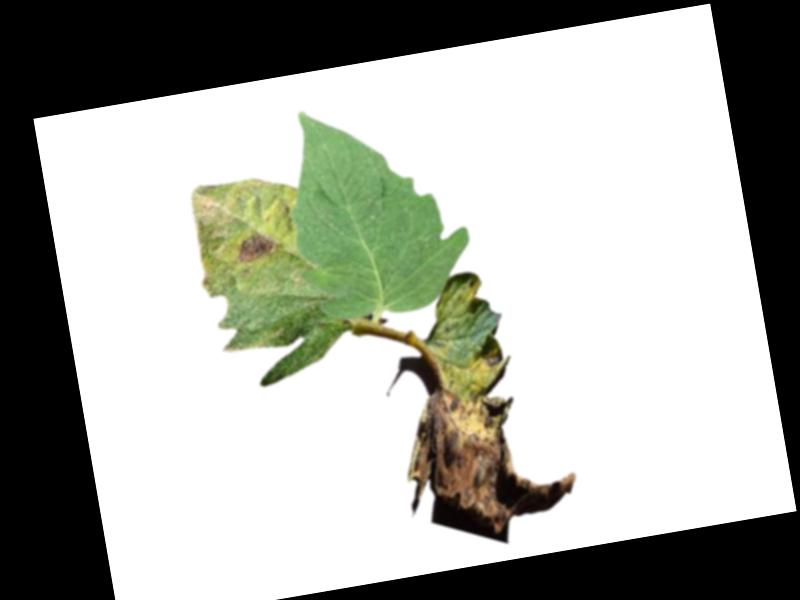Early_blight: (387, 336, 588, 547), (232, 227, 277, 264)
